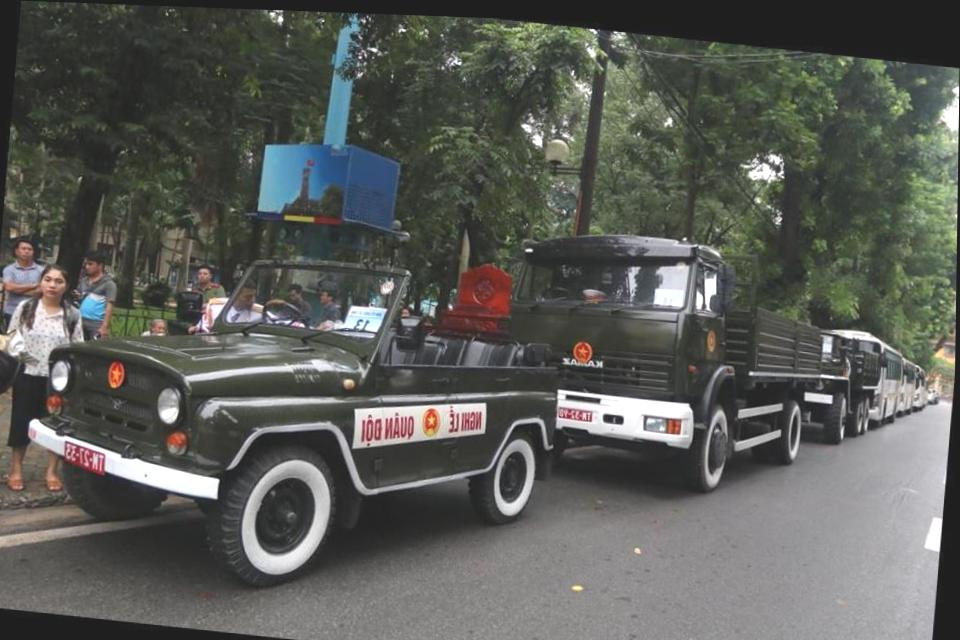License_Plate: (61, 438, 107, 481), (554, 402, 594, 430)
